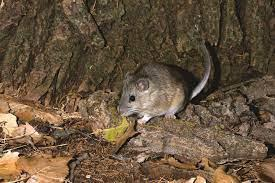rat: (117, 43, 211, 125)
